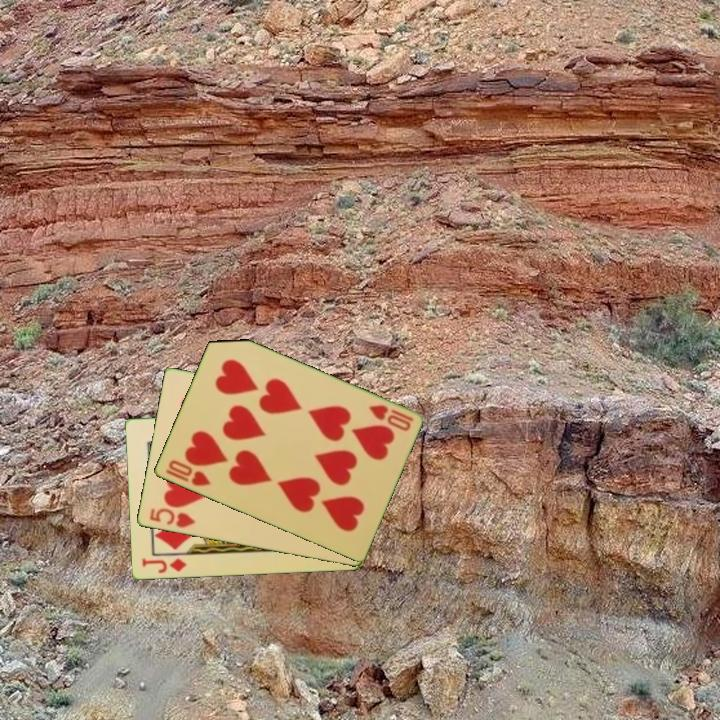10h: (162, 456, 214, 489), (364, 401, 416, 434)
5h: (146, 505, 198, 531)
Jd: (138, 555, 189, 576)
